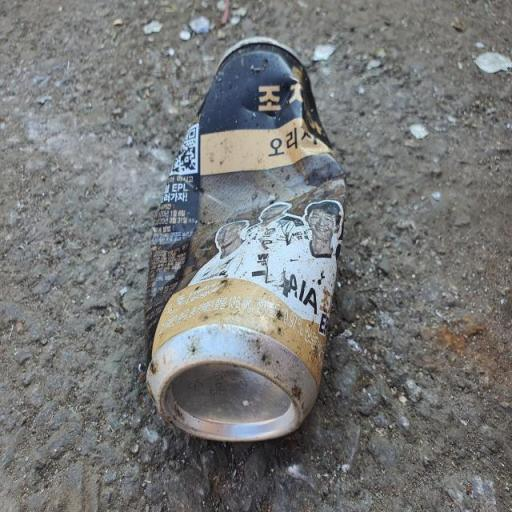metal: (130, 22, 361, 458)
